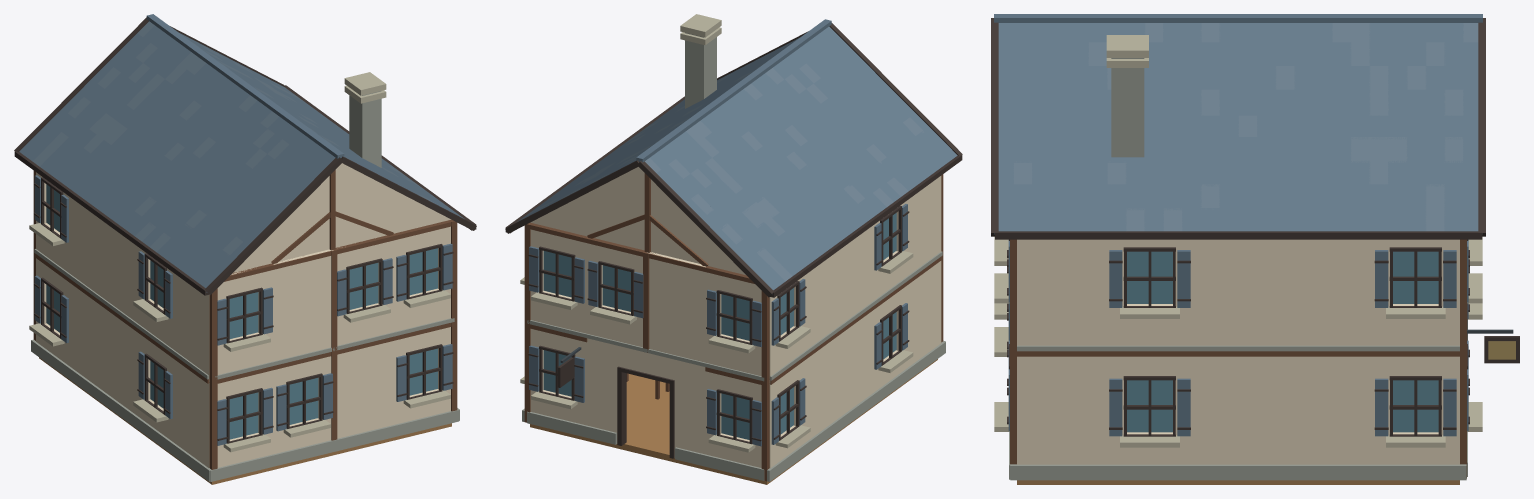
The model's file is SM_TownHouse.glb.
The picture shows the model from 3 angles, left to right: view 1: azimuth 30°, elevation 25°; view 2: azimuth 150°, elevation 25°; view 3: azimuth 270°, elevation 25°; orthographic projection. The views are drawn at different scales.
Visible parts, largest first — view 1: SM_TownHouse; view 2: SM_TownHouse; view 3: SM_TownHouse.
Part boxes in pixels (<box>): SM_TownHouse: <box>14,14,476,484</box>; SM_TownHouse: <box>505,14,962,484</box>; SM_TownHouse: <box>991,14,1519,484</box>.
Size of the model in its own units: 9.06 by 10.34 by 11.94.
